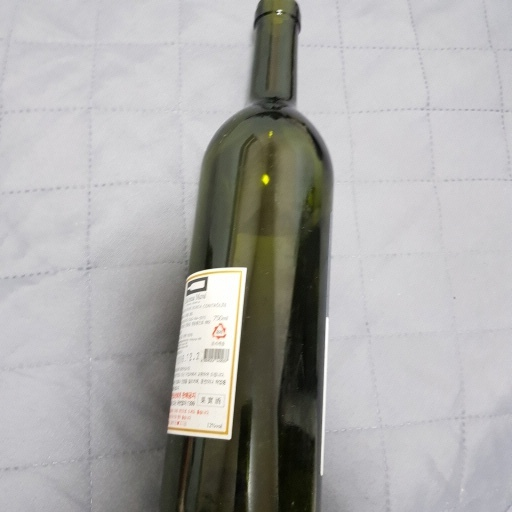Glass_2: (149, 1, 339, 512)
